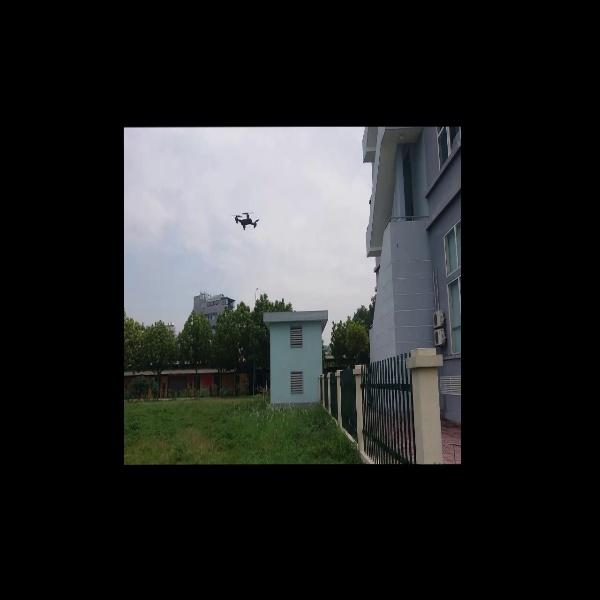drone: (218, 202, 267, 238)
